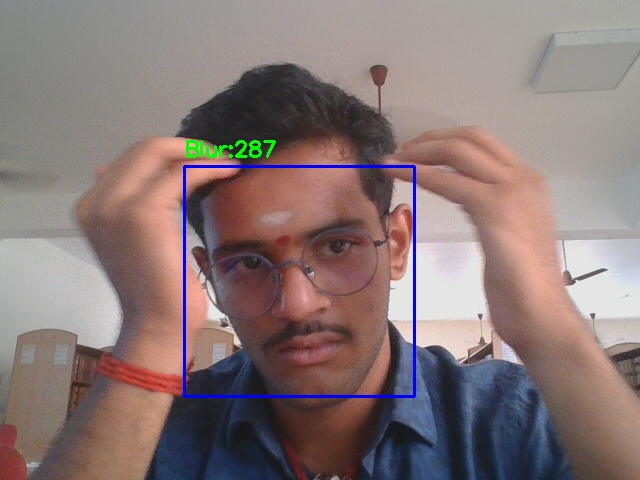real: (184, 166, 414, 396)
